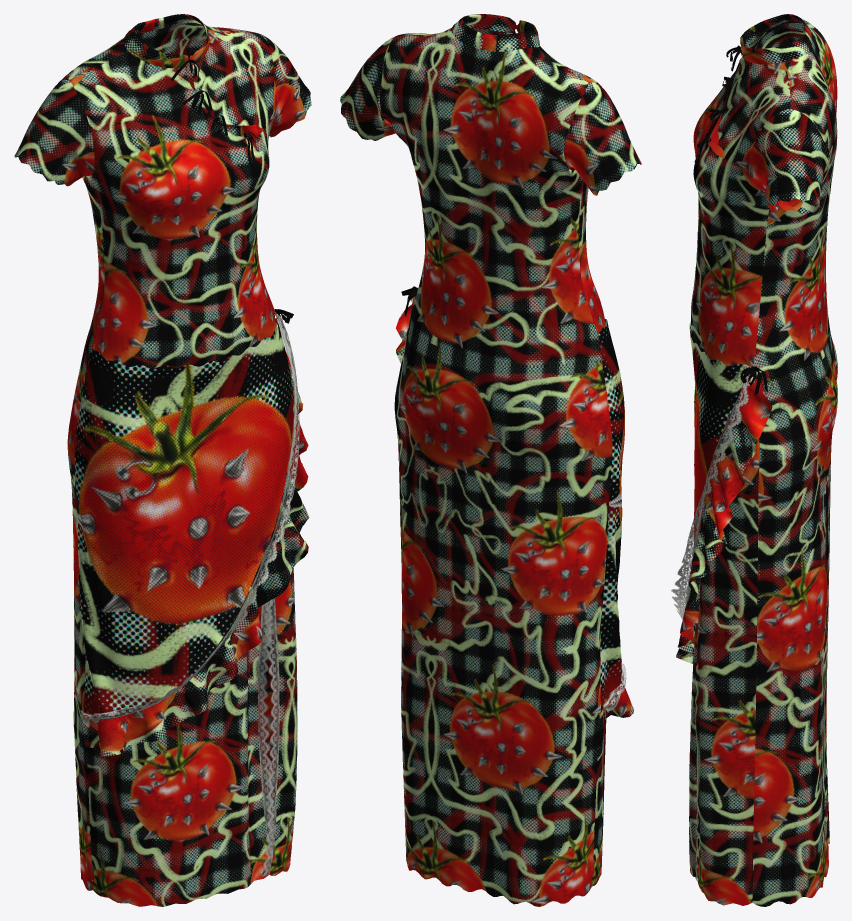
Rendered from vestidopomodoro.glb.
3 renders of one model, left to right at view 1: azimuth 30°, elevation 25°; view 2: azimuth 150°, elevation 25°; view 3: azimuth 270°, elevation 25°, orthographic. The views are drawn at different scales.
Parts seen in each view (by area): view 1: Cloth.003; view 2: Cloth.003; view 3: Cloth.003.
Boxes of the visible parts, <box> form: Cloth.003: <box>14,14,311,906</box>; Cloth.003: <box>340,14,641,906</box>; Cloth.003: <box>671,14,837,906</box>.
Size of the model in its own units: 0.4032 by 1.12 by 0.2033.
Materials: 7 (7 with a texture image).
